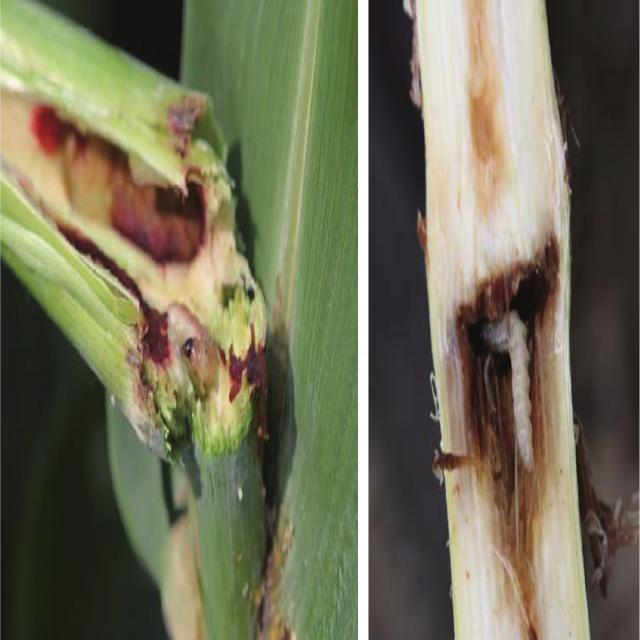cornborer-Larva-: (470, 277, 556, 500)
